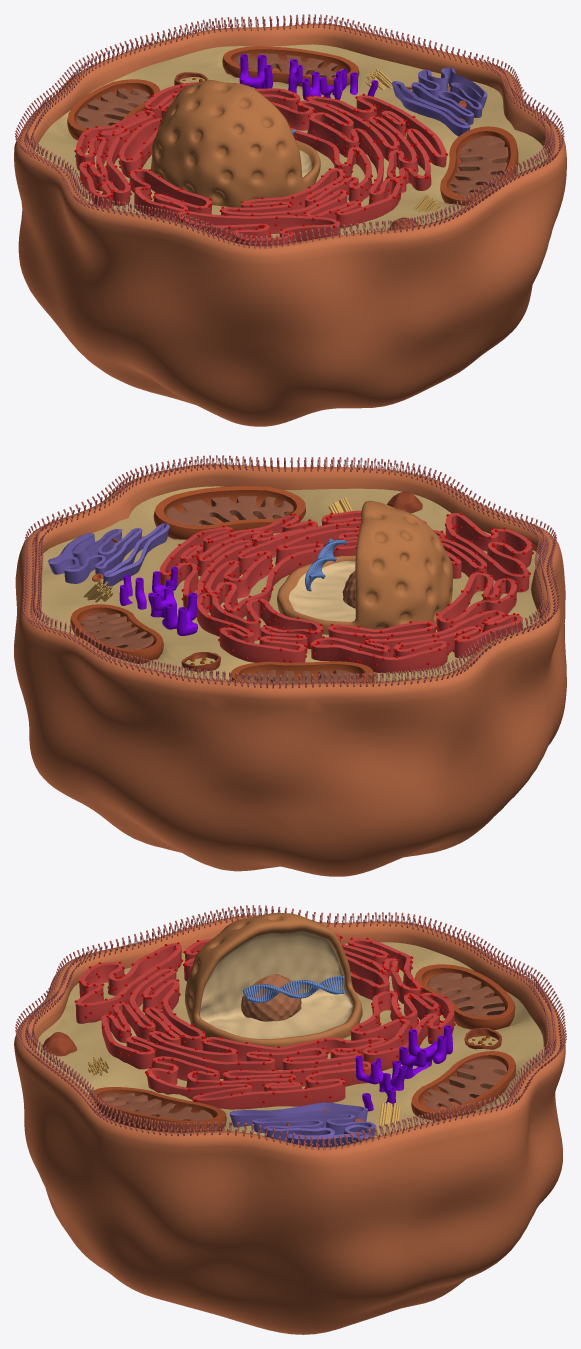
The model's file is human_cell.glb.
The picture shows the model from 3 angles, top to bottom: view 1: azimuth 30°, elevation 25°; view 2: azimuth 150°, elevation 25°; view 3: azimuth 270°, elevation 25°; orthographic projection. The views are drawn at different scales.
Visible parts, largest first — view 1: Object_4; view 2: Object_4; view 3: Object_4.
Boxes of the visible parts, box(x1,y1,x2,y2) form: Object_4: box(14, 14, 566, 426); Object_4: box(14, 455, 566, 876); Object_4: box(14, 905, 566, 1334).
Bounding box in the file's own units: 1.9 × 1.21 × 1.85.
1 material, 1 textured.
